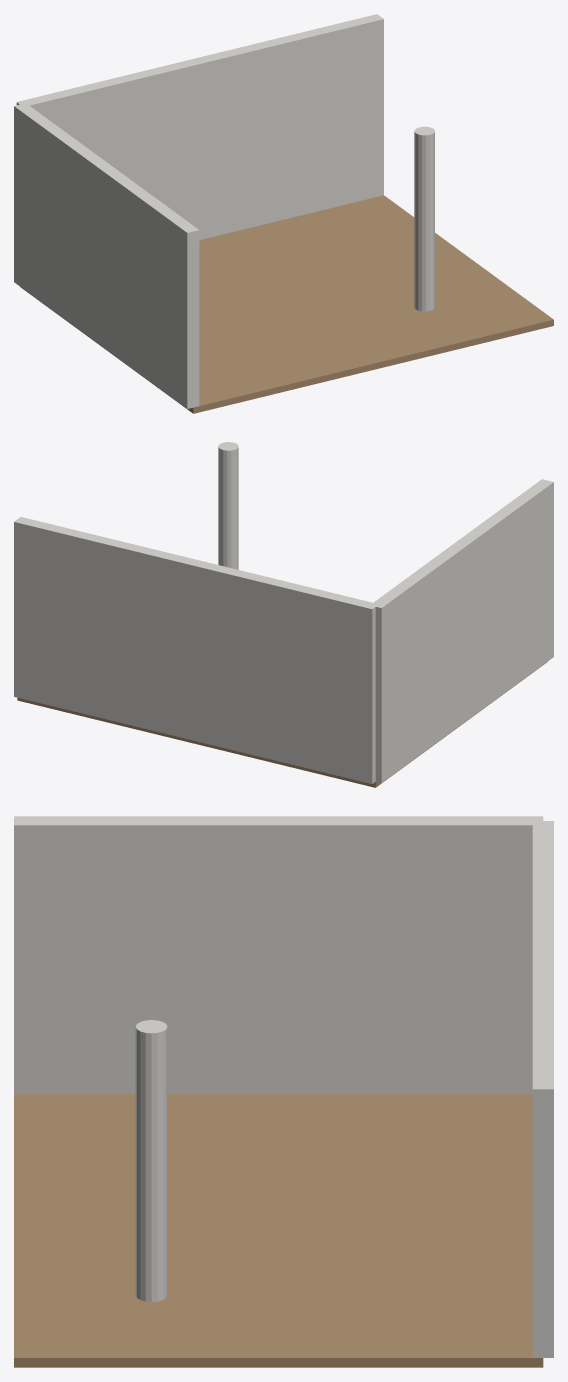
Rendered from s1-room.glb.
3 renders of one model, top to bottom at view 1: azimuth 30°, elevation 25°; view 2: azimuth 150°, elevation 25°; view 3: azimuth 270°, elevation 25°, orthographic. The views are drawn at different scales.
Visible parts, largest first — view 1: Wall_N, Floor, Wall_W, Column; view 2: Wall_N, Wall_W, Column, Floor; view 3: Wall_W, Floor, Wall_N, Column.
Part boxes in pixels (x1=…): Wall_N: x1=16, y1=14, x2=383, y2=240; Floor: x1=20, y1=195, x2=553, y2=413; Wall_W: x1=14, y1=103, x2=199, y2=408; Column: x1=414, y1=126, x2=434, y2=311; Wall_N: x1=14, y1=517, x2=378, y2=783; Wall_W: x1=371, y1=479, x2=553, y2=782; Column: x1=218, y1=442, x2=238, y2=569; Floor: x1=17, y1=661, x2=547, y2=787; Wall_W: x1=14, y1=816, x2=543, y2=1093; Floor: x1=14, y1=1094, x2=543, y2=1367; Wall_N: x1=532, y1=821, x2=553, y2=1357; Column: x1=135, y1=1020, x2=167, y2=1301.
Bounding box in the file's own units: 6.1 × 2.9 × 5.1.
